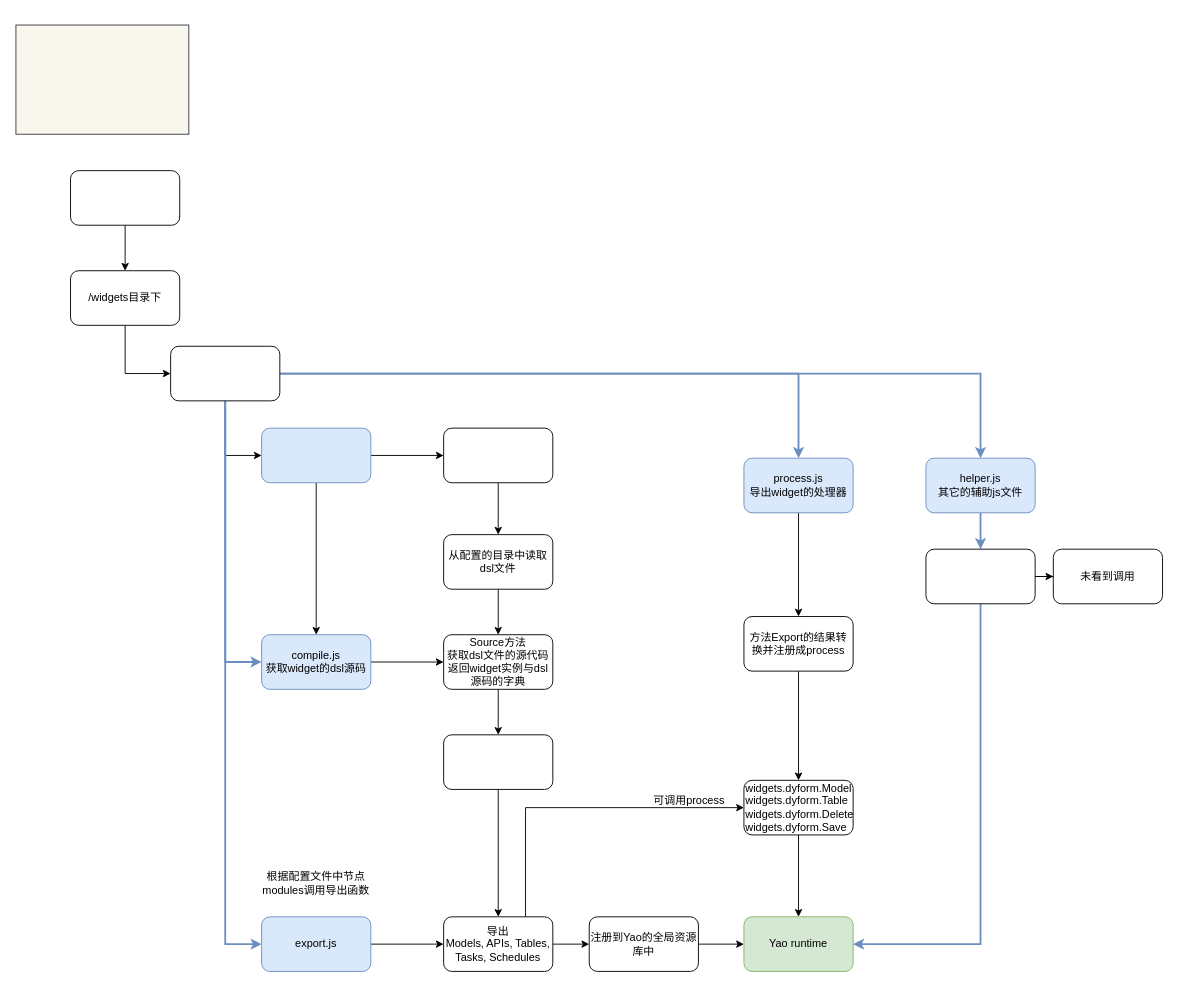
This 1178x987 diagram has some shape labels left out. The centre of each missing label's shape, as x and y in pixels:
<widget> 一个目录代表一个实例: point (225, 373)
app根目录: point (125, 197)
Compile 额外处理: point (498, 761)
widget.json 配置文件: point (316, 455)
注册到v8引擎 dyform.script.helper: point (980, 576)
自定义widget 自定义widget引擎处理过程: point (102, 79)
配置root 对应widget实例l配置文件目录: point (498, 455)
